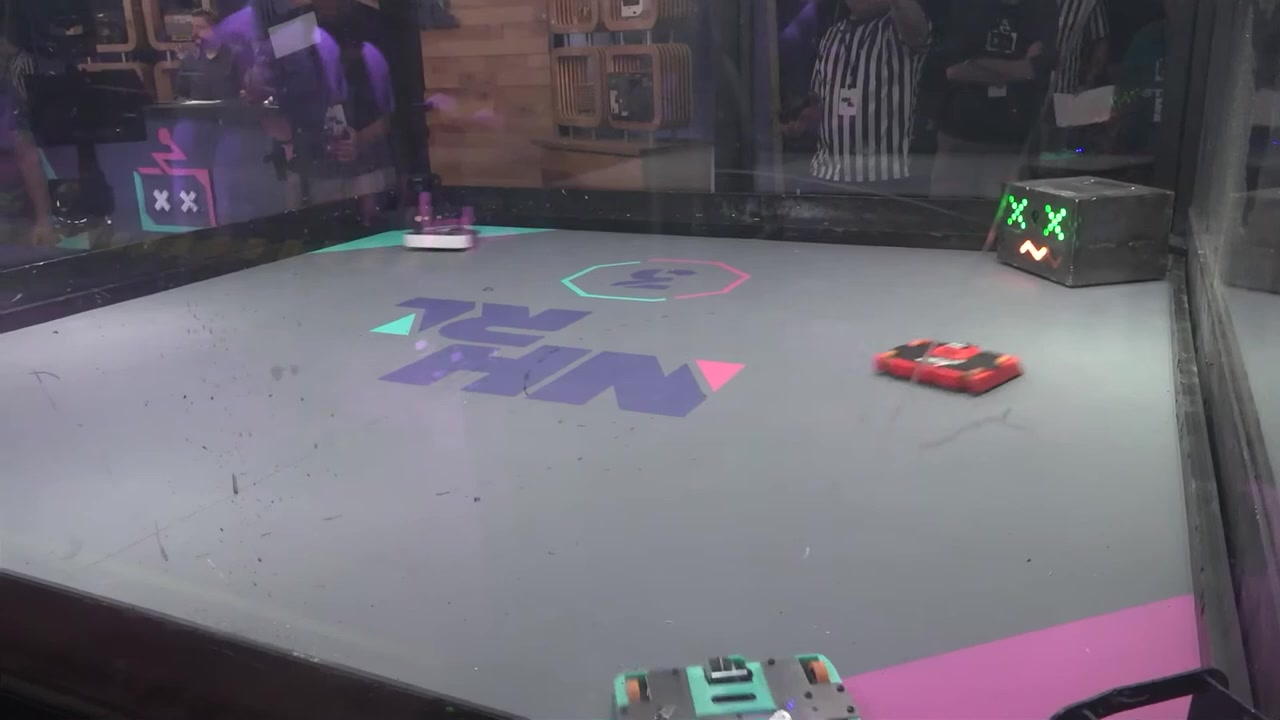combatbot: (615, 652, 861, 720), (871, 338, 1028, 397), (403, 192, 480, 252)
housebot: (995, 177, 1175, 290)
